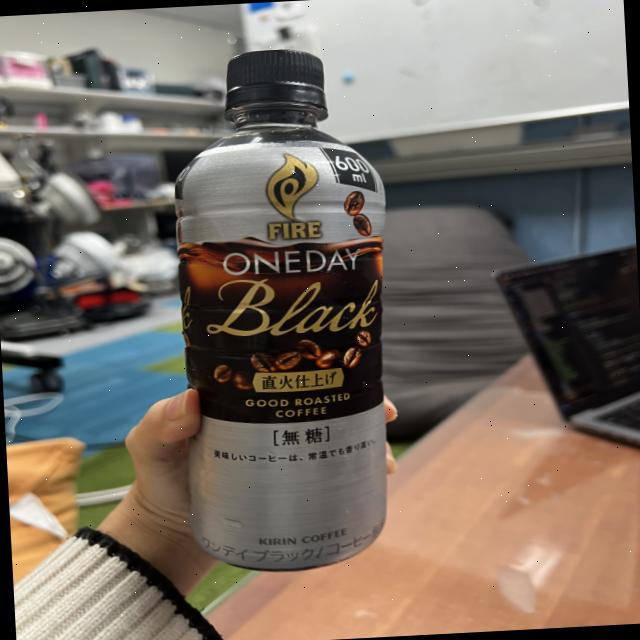coffee-black: (165, 45, 405, 577)
